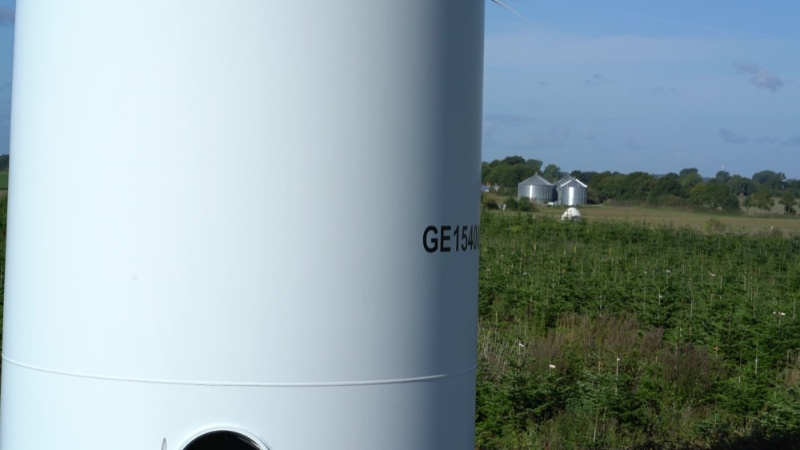weldseam: (1, 350, 478, 390)
